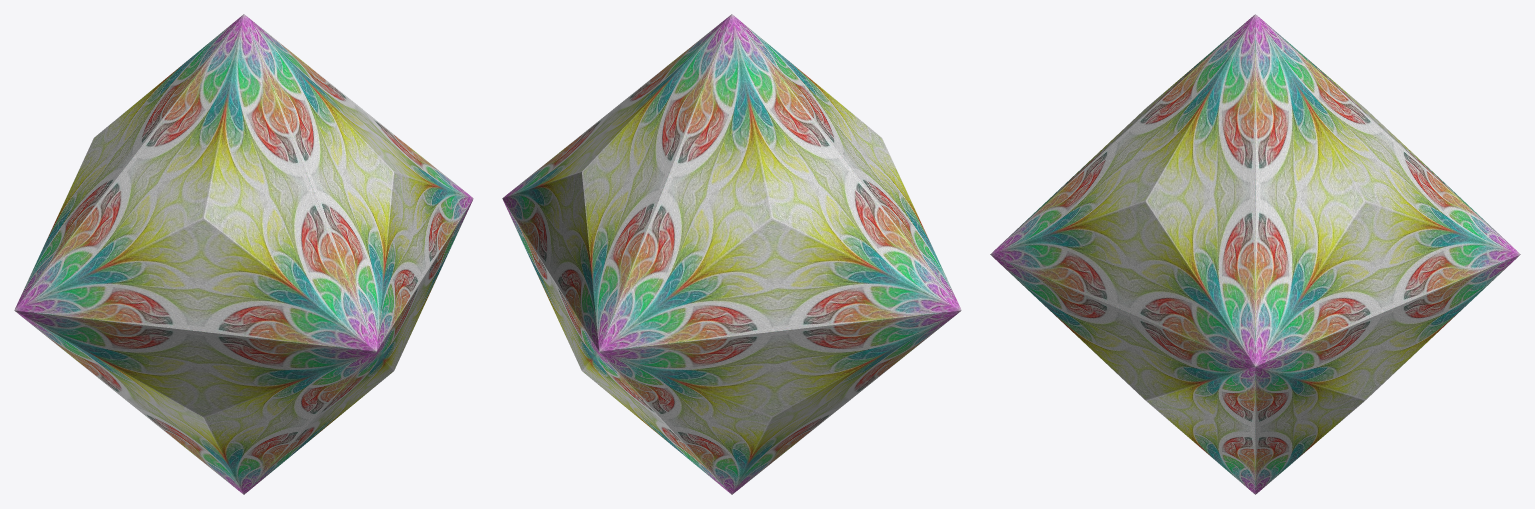
Rendered from TriakisOctahedron5.obj.
3 views of the same model, side by side, from view 1: azimuth 30°, elevation 25°; view 2: azimuth 150°, elevation 25°; view 3: azimuth 270°, elevation 25° (orthographic).
Size of the model in its own units: 4.83 by 4.83 by 4.83.
Materials: 1 (1 with a texture image).
